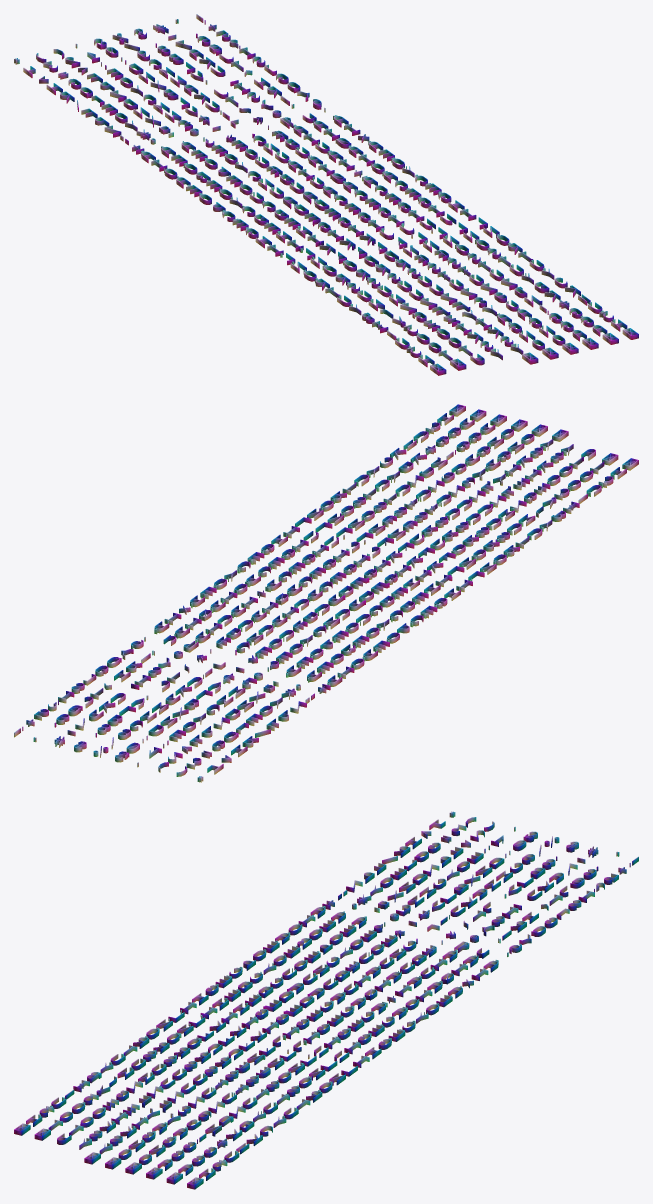
Rendered from ZectorMono-Tatting.fbx.
3 renders of one model, top to bottom at view 1: azimuth 30°, elevation 25°; view 2: azimuth 150°, elevation 25°; view 3: azimuth 330°, elevation 25°, orthographic. The views are drawn at different scales.
Size of the model in its own units: 941 by 20 by 3773.
